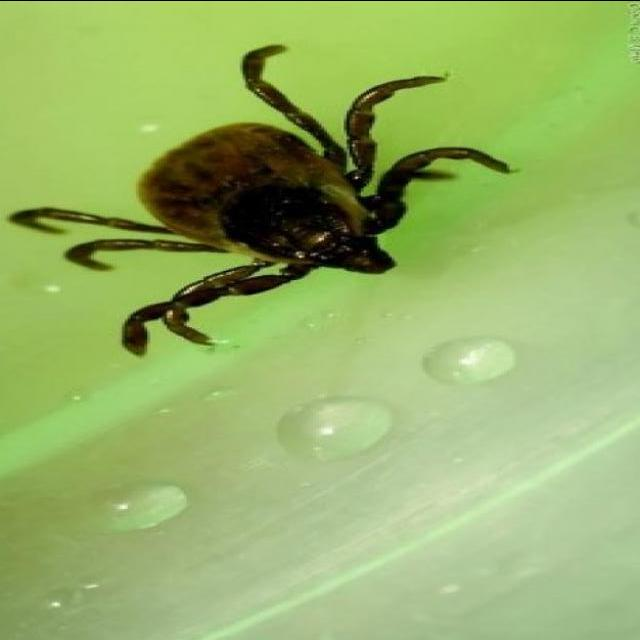Rhipicephalus Sanguineus-F: (7, 43, 512, 356)
